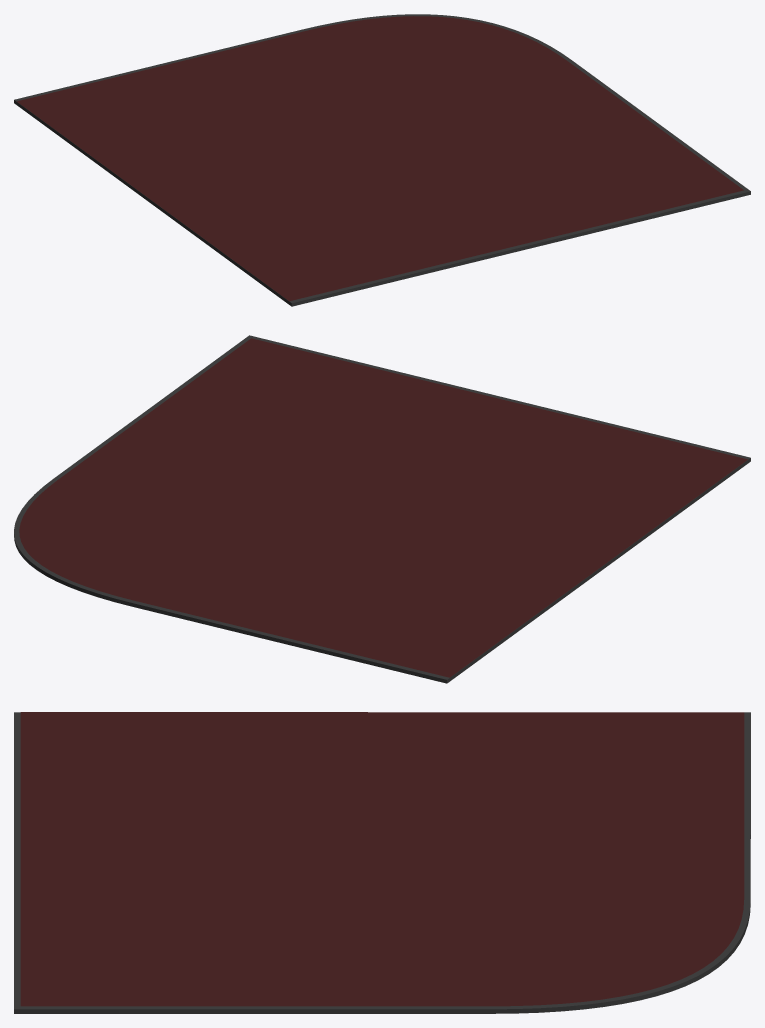
File: Road4.FBX
3 views of the same model, one above another, from view 1: azimuth 30°, elevation 25°; view 2: azimuth 150°, elevation 25°; view 3: azimuth 270°, elevation 25° (orthographic). The views are drawn at different scales.
Parts seen in each view (by area): view 1: Object005; view 2: Object005; view 3: Object005.
Boxes of the visible parts, x1=… form: Object005: x1=14, y1=14, x2=750, y2=306; Object005: x1=14, y1=335, x2=750, y2=683; Object005: x1=14, y1=712, x2=750, y2=1013.
Bounding box in the file's own units: 3627 × 27.07 × 3803.
